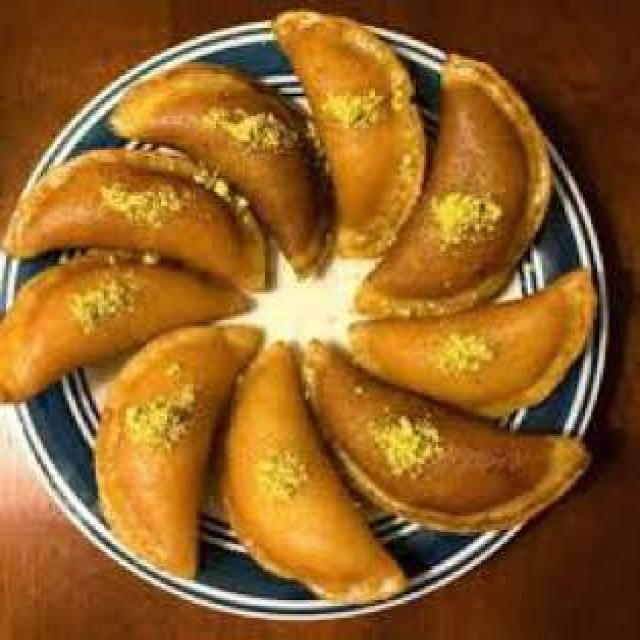ataif: (0, 12, 601, 602)
